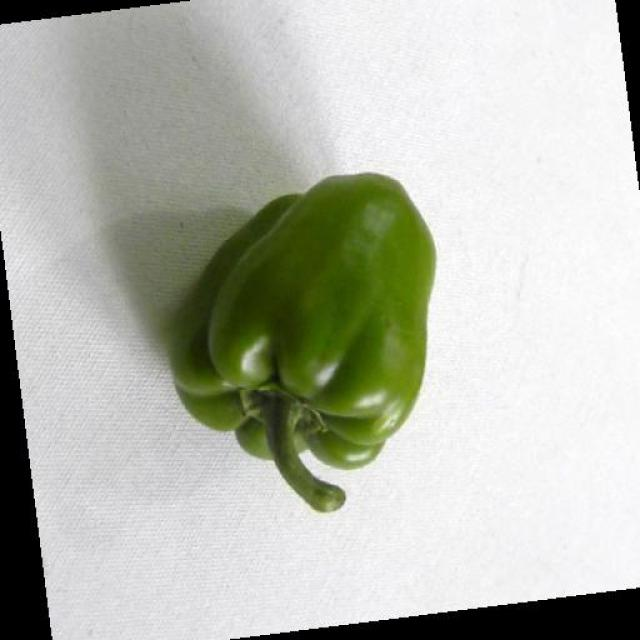Fresh_Capsicum: (189, 140, 474, 502)
